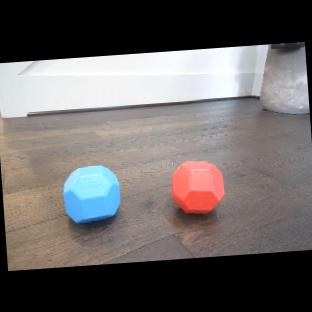V5_BLUE: (60, 164, 122, 224)
V5_RED: (170, 159, 226, 216)
